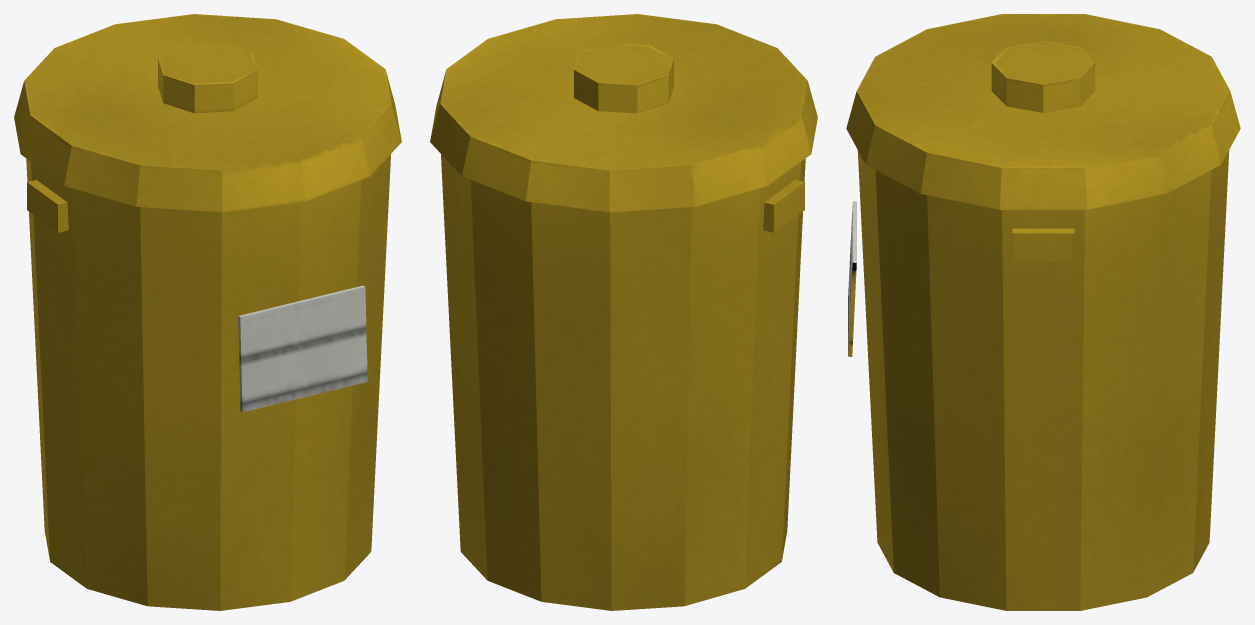
Rendered from Bin_Medical.fbx.
The picture shows the model from 3 angles, left to right: view 1: azimuth 30°, elevation 25°; view 2: azimuth 150°, elevation 25°; view 3: azimuth 270°, elevation 25°; orthographic projection.
Visible parts, largest first — view 1: мусорка для мед кабинетов; view 2: мусорка для мед кабинетов; view 3: мусорка для мед кабинетов.
Part boxes in pixels (box(x1,y1,x2,y2)): мусорка для мед кабинетов: box(14, 14, 401, 610); мусорка для мед кабинетов: box(430, 14, 817, 610); мусорка для мед кабинетов: box(846, 14, 1240, 610).
Size of the model in its own units: 0.3705 by 0.51 by 0.38.
1 material, 1 textured.
